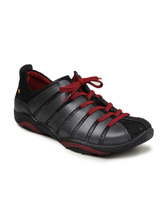shoes: (12, 62, 159, 155)
